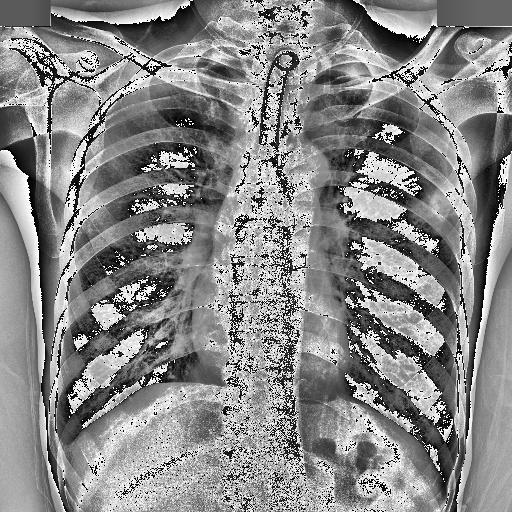10- Pleural effusion: (51, 428, 82, 454), (50, 436, 76, 466), (56, 434, 78, 468)
11- Pleural thickening: (324, 50, 420, 88), (151, 46, 250, 78), (321, 53, 409, 85), (314, 50, 405, 78), (156, 44, 238, 70), (156, 56, 237, 71), (51, 428, 82, 454), (50, 436, 76, 466), (56, 434, 78, 468)
13- Pulmonary fibrosis: (426, 190, 463, 220)
